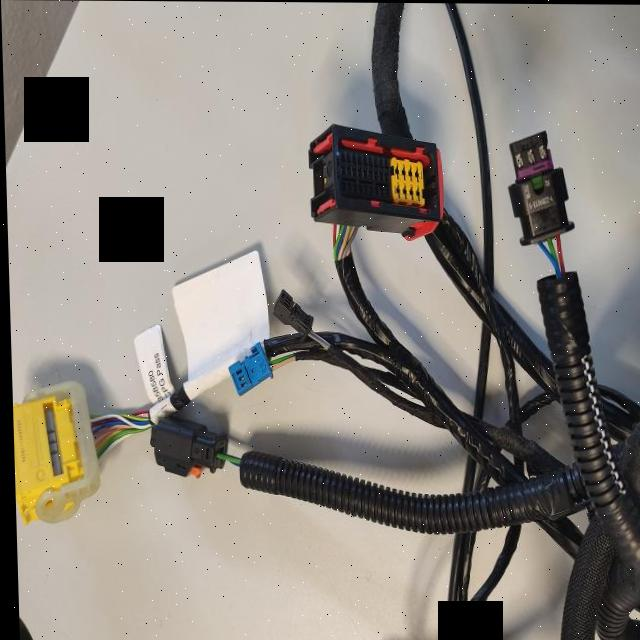cable: (369, 1, 410, 138)
connector: (308, 123, 442, 240), (10, 381, 98, 524), (497, 129, 574, 246), (136, 406, 231, 490), (264, 289, 334, 357), (219, 341, 275, 394)
label: (167, 249, 272, 398), (129, 323, 173, 402)
